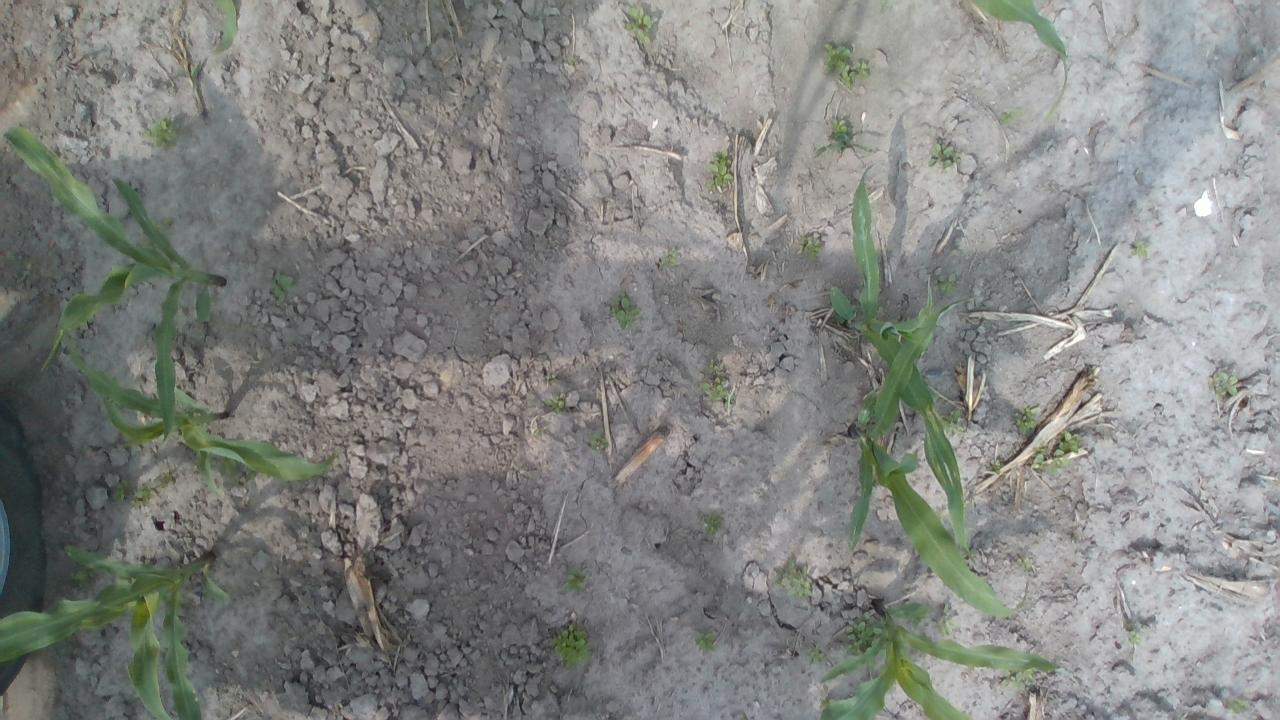Maize: (3, 123, 230, 449), (841, 275, 1020, 622), (825, 162, 975, 556), (97, 352, 380, 516), (0, 544, 217, 720), (818, 596, 1066, 719), (971, 0, 1072, 129)
Weeds: (110, 470, 178, 508), (824, 42, 866, 88), (844, 616, 886, 654), (1030, 434, 1082, 464), (702, 362, 734, 405), (557, 632, 589, 670), (827, 116, 855, 158), (774, 566, 818, 592), (624, 3, 652, 42), (146, 118, 178, 144), (613, 292, 636, 328), (709, 155, 731, 192), (269, 273, 295, 304), (562, 570, 590, 594), (929, 143, 958, 165), (1212, 374, 1241, 396), (939, 410, 965, 434), (1016, 407, 1034, 440), (694, 632, 716, 655), (1227, 697, 1254, 715), (698, 516, 718, 538), (1132, 236, 1150, 260), (804, 237, 824, 257), (939, 274, 957, 294), (1132, 624, 1144, 644)
